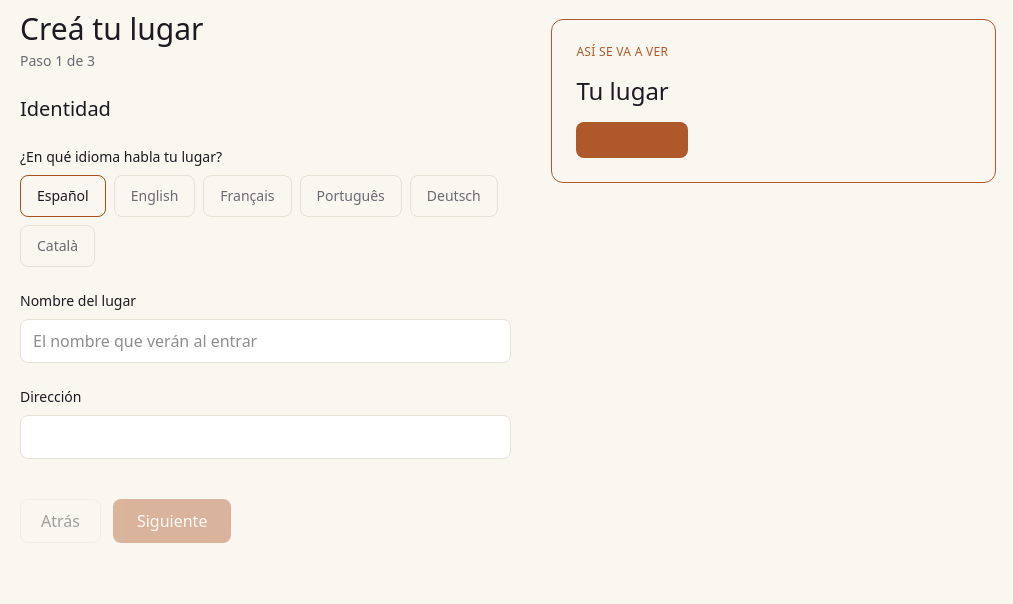
Test: PlaceWizard — shell + Paso 1 (S8a) › con slug válido muestra la aclaración de chequeo no autoritativo
The width and height of the screenshot is (1013, 604).
Type "mi-club" into the field labelled "Dirección" at {"x": 266, "y": 437}, box [20,415,511,459]
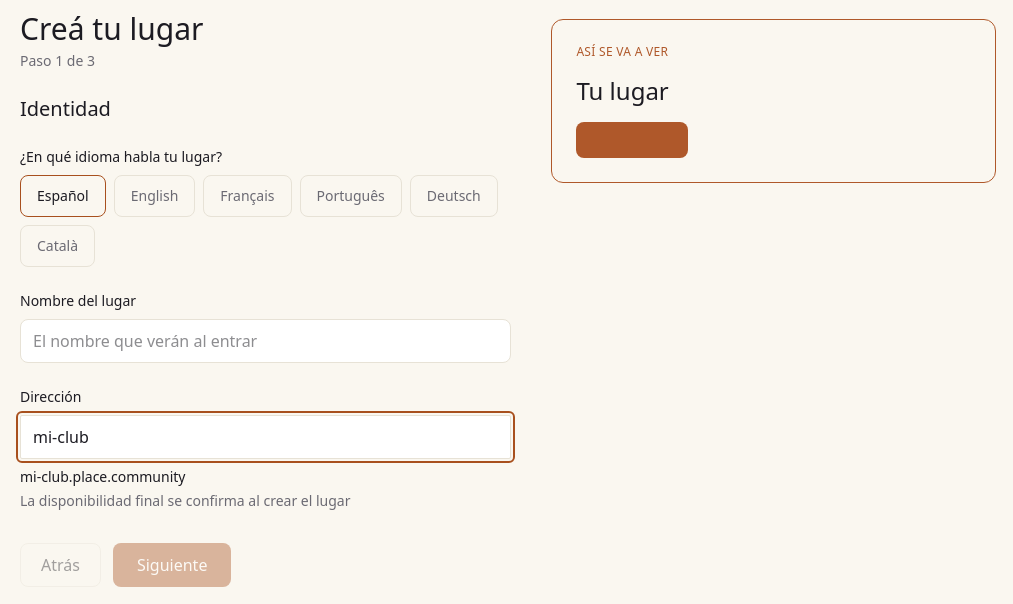
Expected: the text "La disponibilidad final se confirma al crear el lugar" is shown, [20,491,350,510]
Expected: the text "mi-club.place.community" is shown, [20,467,186,486]
